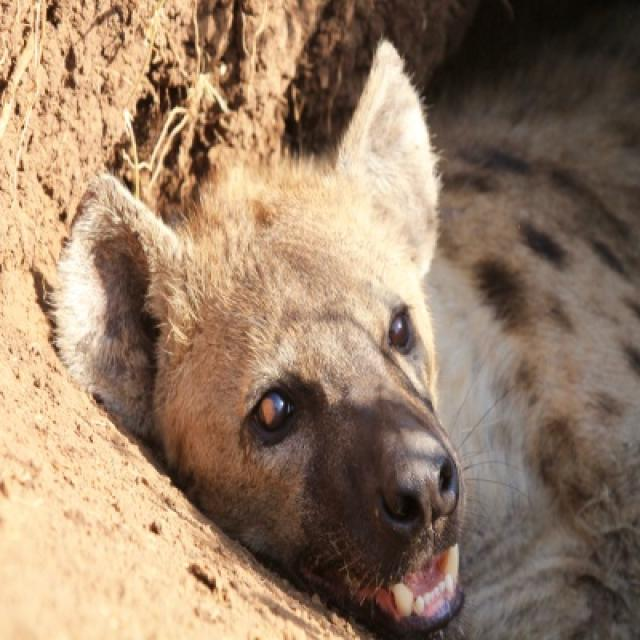hyena: (43, 0, 638, 638)
